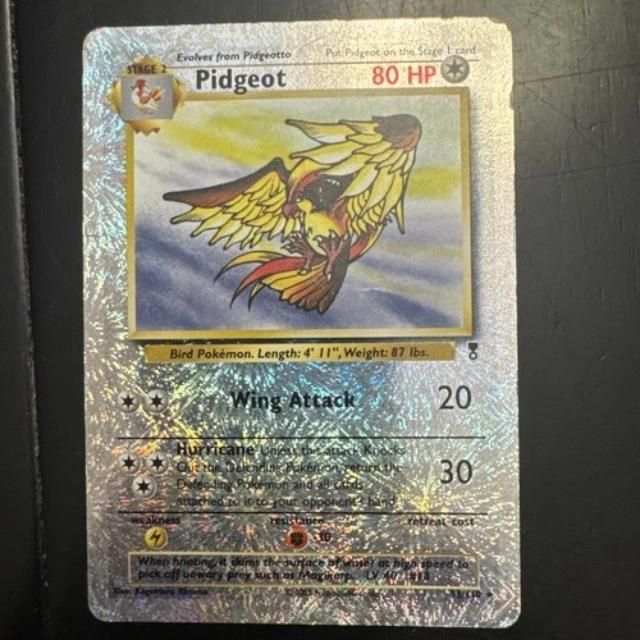Card: (73, 12, 528, 632)
Name: (189, 64, 292, 97)
